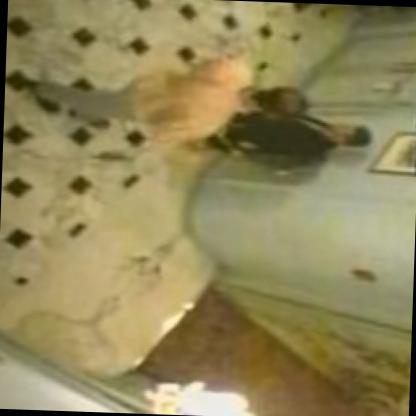Human Body: (17, 51, 310, 146), (182, 87, 370, 154)
